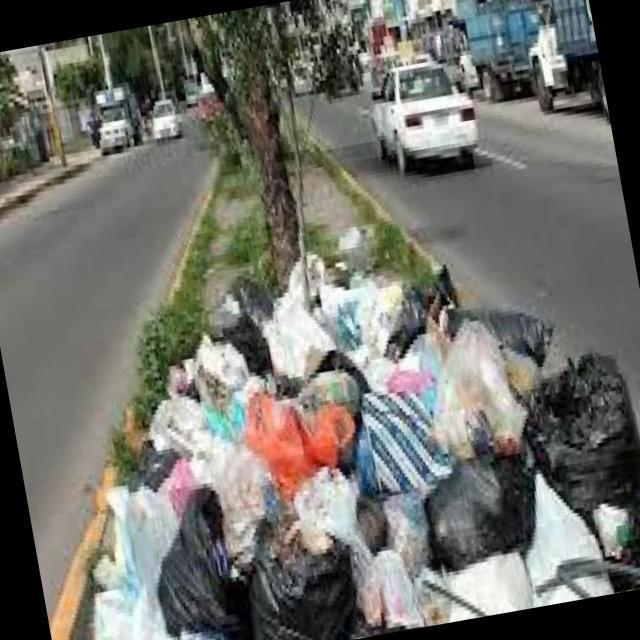garbage: (27, 191, 640, 640)
